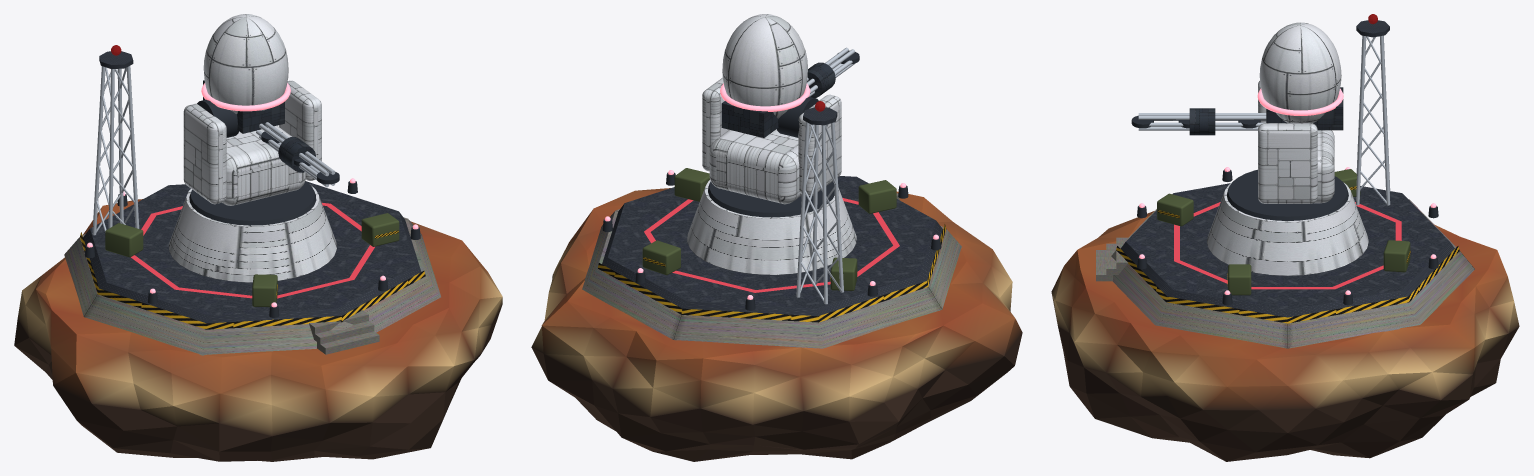
The model's file is ciws-L50.glb.
3 views of the same model, side by side, from view 1: azimuth 30°, elevation 25°; view 2: azimuth 150°, elevation 25°; view 3: azimuth 270°, elevation 25° (orthographic). The views are drawn at different scales.
Size of the model in its own units: 5.49 by 4.98 by 5.49.
13 materials, 6 textured.
